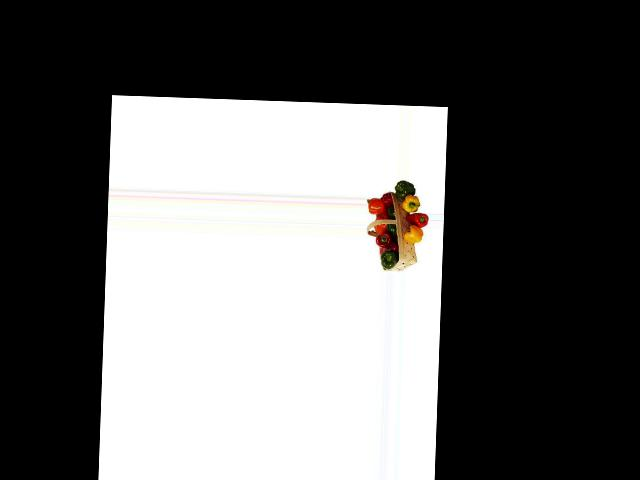bell_pepper: (380, 248, 397, 269)
